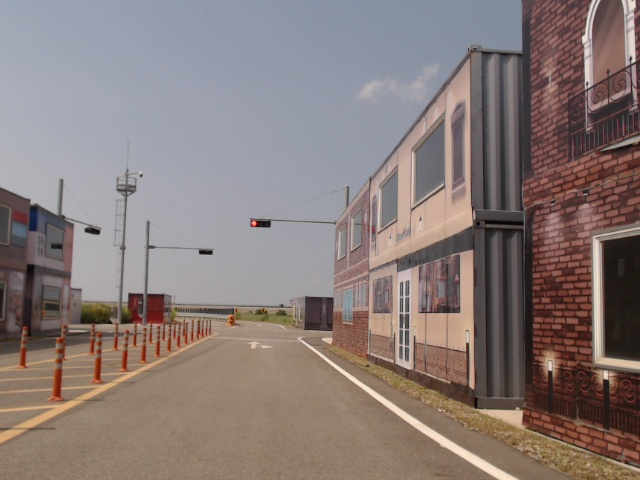red_3: (251, 220, 270, 227)
